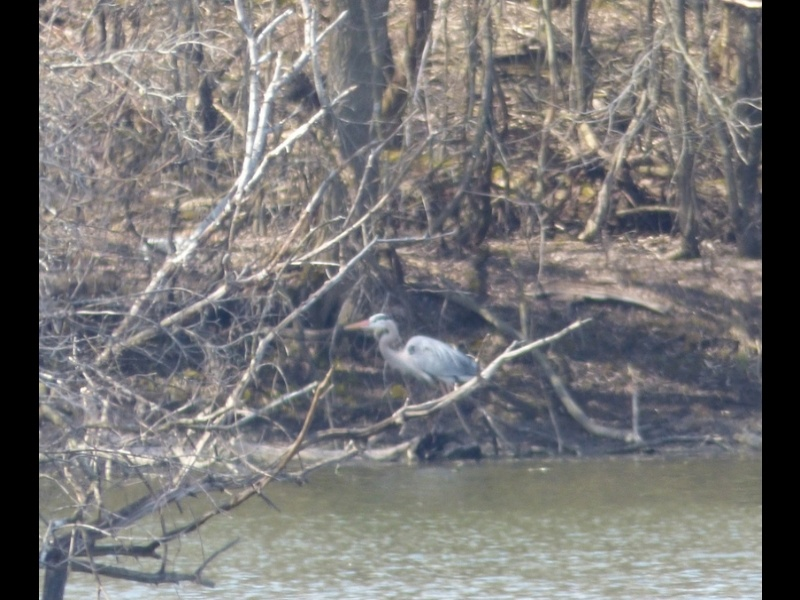heron: (340, 311, 485, 405)
